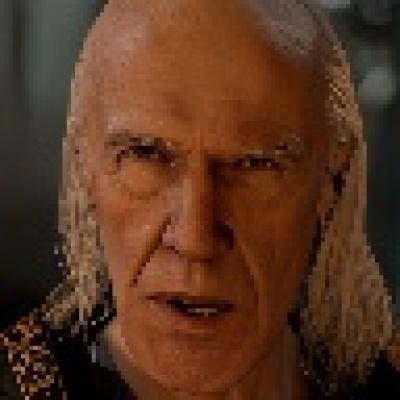angry: (82, 10, 329, 383)
